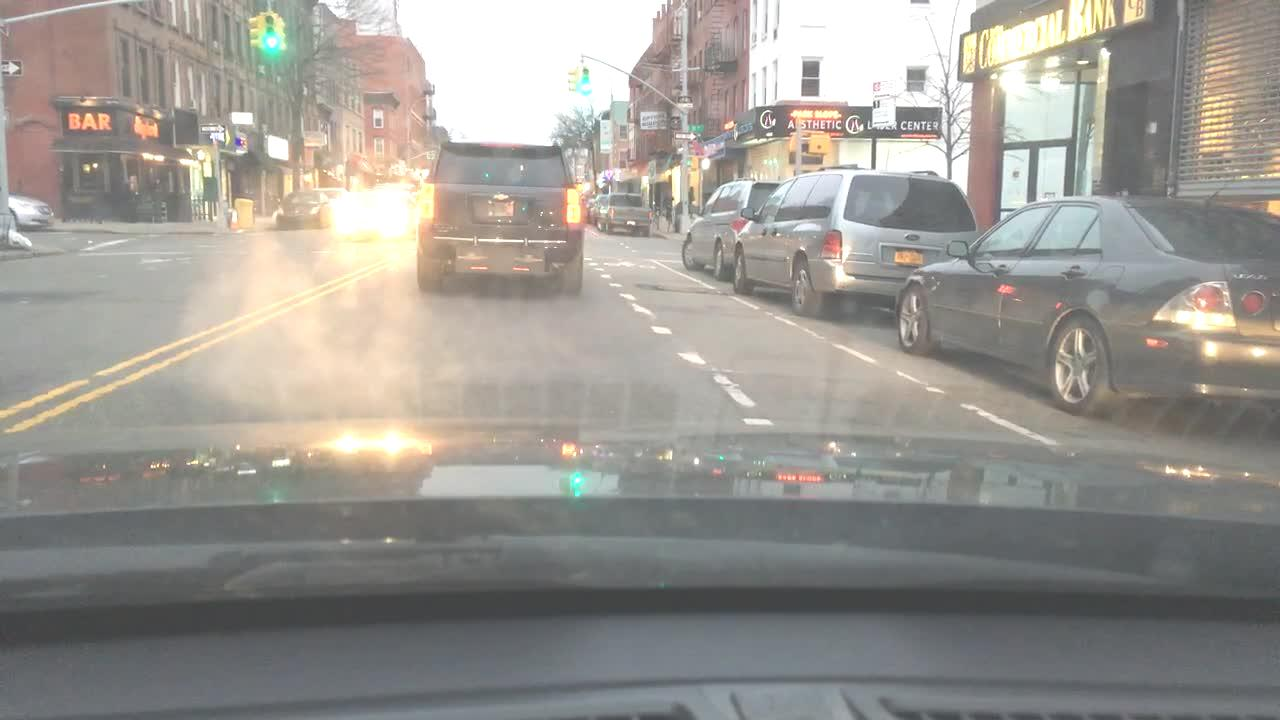chevrolet: (487, 188, 515, 205)
ford: (899, 231, 927, 244)
